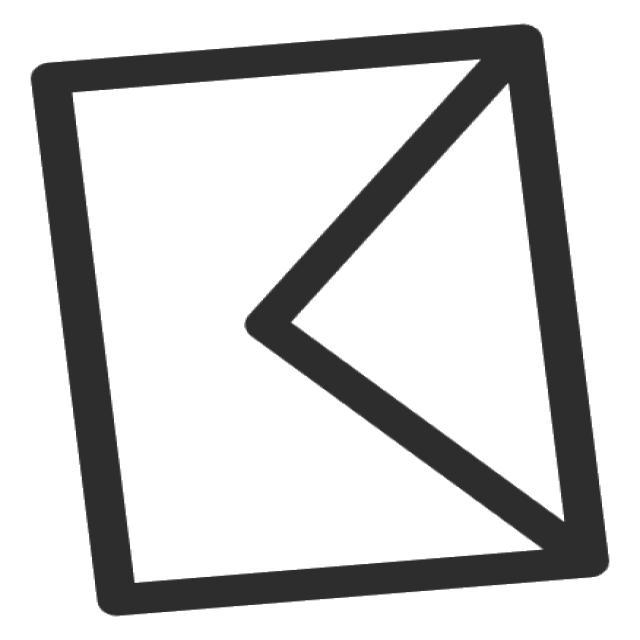letter: (27, 20, 616, 622)
